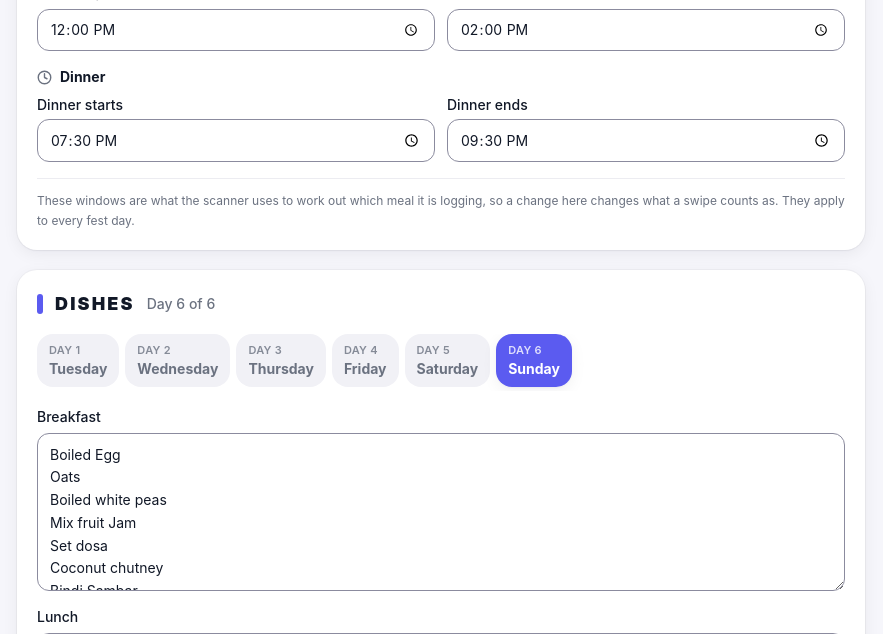
Test: MessMenuPage › reading back what is stored › starts from the hall’s published menu when it has one
(page scrolled)
Click the tab "Day 1 Tuesday". click: (78, 360)
box: [37,334,119,387]
(page scrolled)
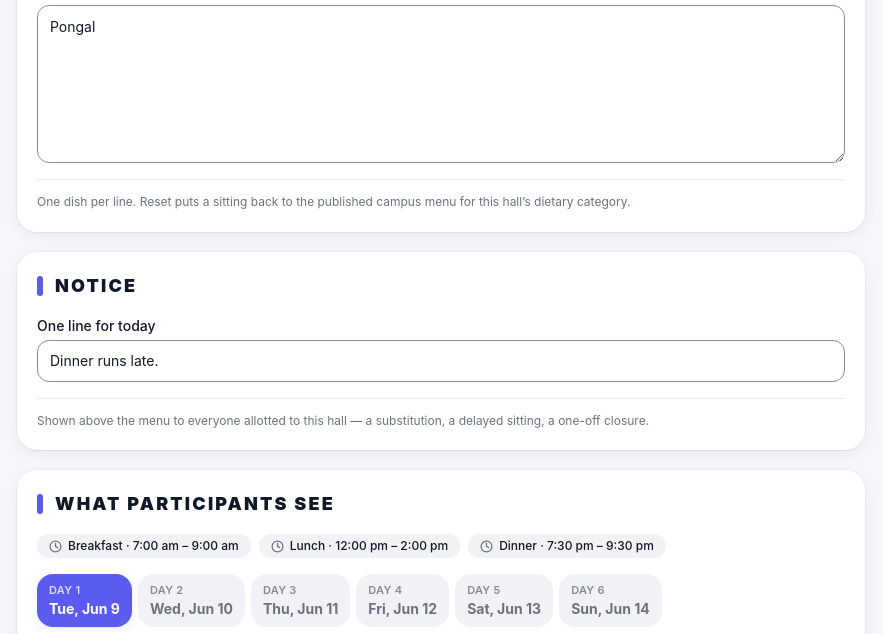
expect the field labelled "One line for today" holds "Dinner runs late.": met, box [37,340,845,382]
expect the text box labelled "Dinner" holds "Pongal": met, box [37,5,845,163]
